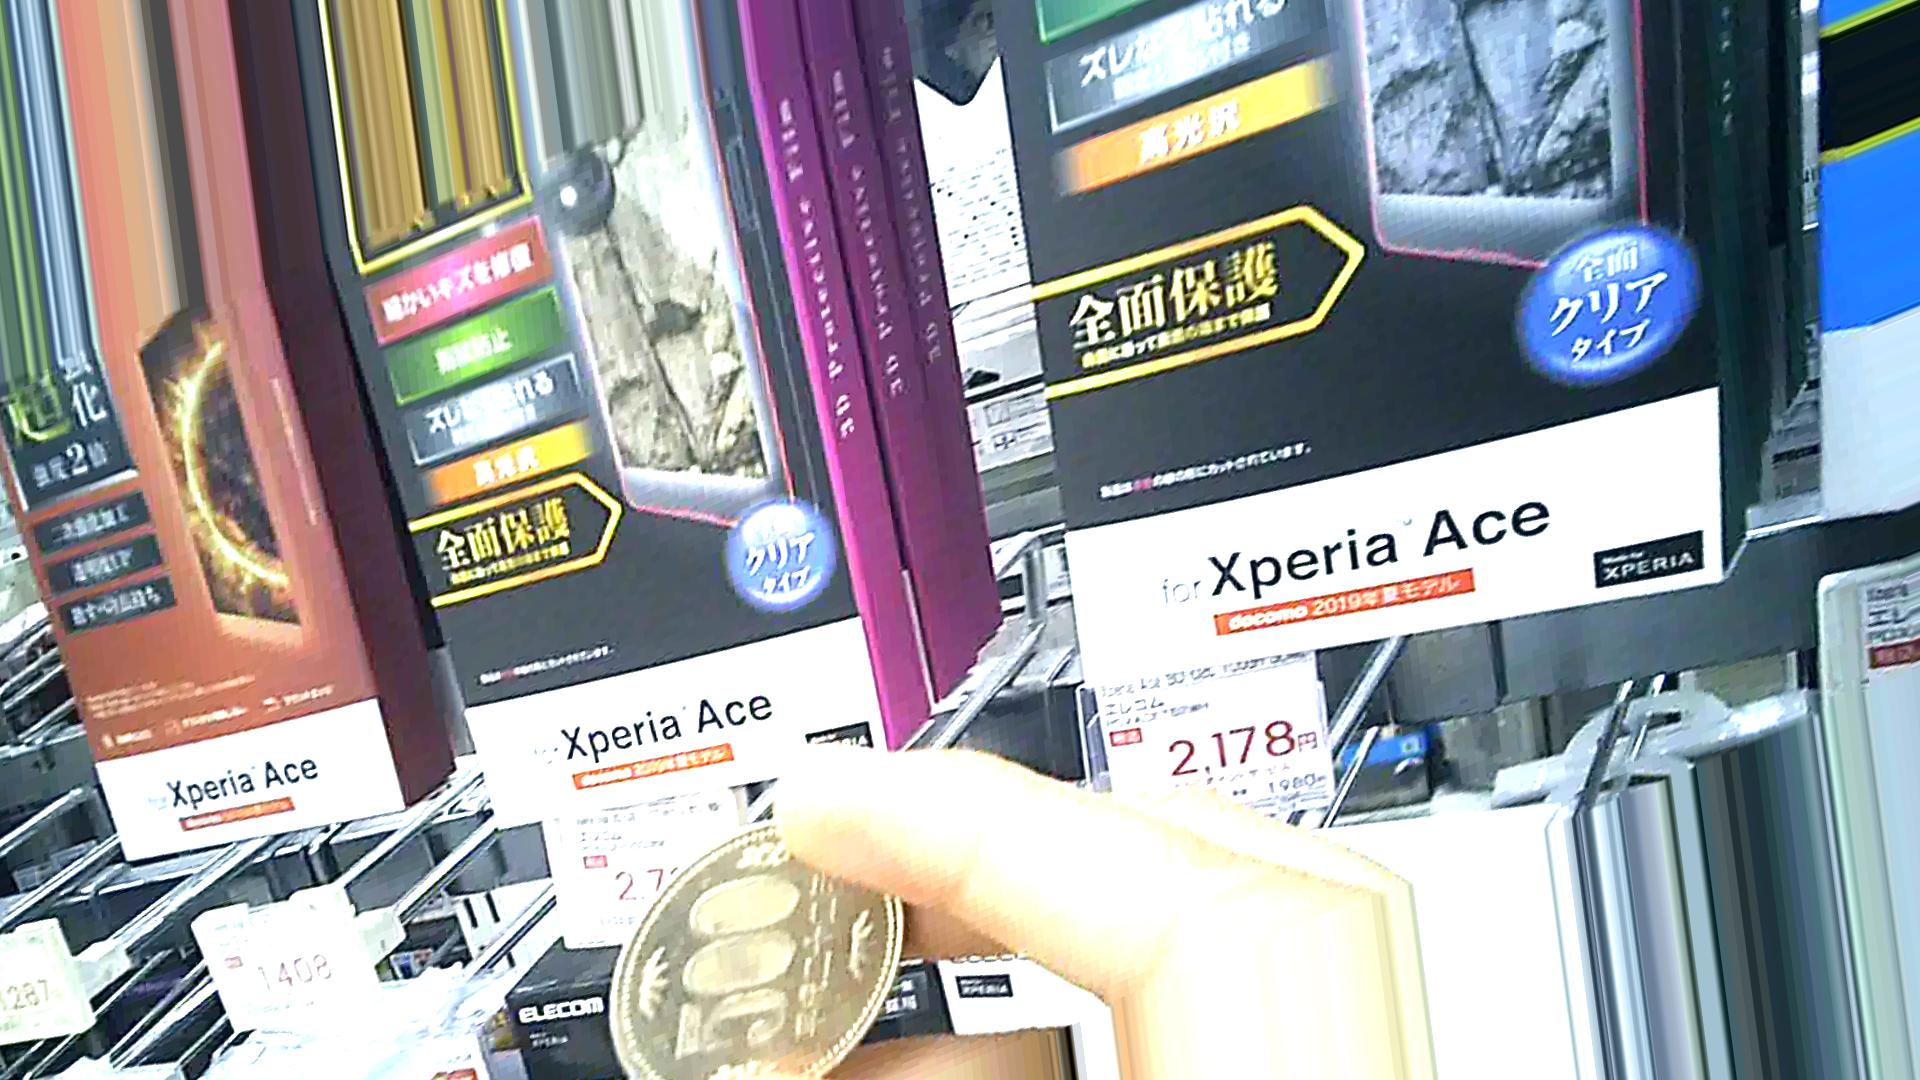500 Yen: (574, 806, 924, 1079)
